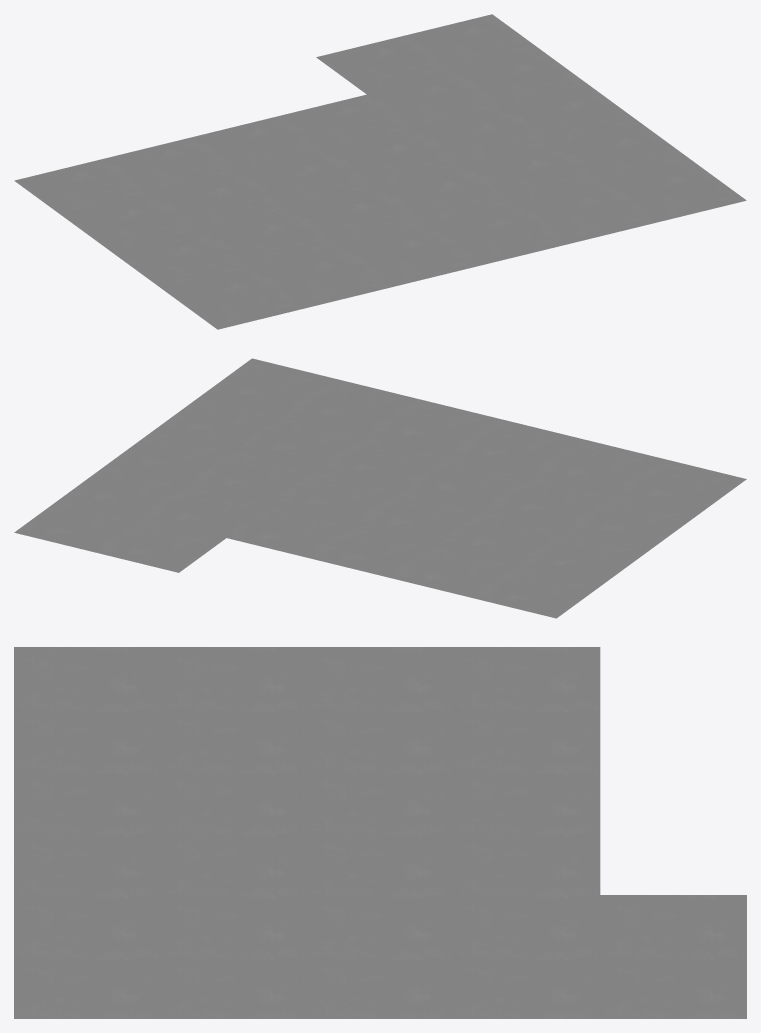
The model's file is Controll_room_floor.fbx.
The picture shows the model from 3 angles, top to bottom: view 1: azimuth 30°, elevation 25°; view 2: azimuth 150°, elevation 25°; view 3: azimuth 270°, elevation 25°; orthographic projection. The views are drawn at different scales.
Parts seen in each view (by area): view 1: Floor_1623, Floor_489, Floor_1617, Floor_1628, Floor_488, Floor_716, Floor_481, Floor_717, Floor_480, Floor_1618, Floor_1621, Floor_1625 (+14 smaller); view 2: Floor_485, Floor_482, Floor_486, Floor_481, Floor_717, Floor_1617, Floor_1619, Floor_1621, Floor_1627, Floor_1628, Floor_487, Floor_488 (+14 smaller); view 3: Floor_487, Floor_482, Floor_488, Floor_716, Floor_489, Floor_718, Floor_483, Floor_481, Floor_1622, Floor_1623, Floor_1626, Floor_1627 (+14 smaller).
Part boxes in pixels (<box>): Floor_1623: <box>102,137,240,196</box>; Floor_489: <box>381,169,519,227</box>; Floor_1617: <box>608,163,746,221</box>; Floor_1628: <box>167,271,305,329</box>; Floor_488: <box>557,126,695,184</box>; Floor_716: <box>469,147,607,206</box>; Floor_481: <box>455,51,593,110</box>; Floor_717: <box>418,110,556,168</box>; Floor_480: <box>404,14,542,72</box>; Floor_1618: <box>343,228,481,286</box>; Floor_1621: <box>153,175,291,233</box>; Floor_1625: <box>65,196,203,254</box>; Floor_485: <box>109,428,238,482</box>; Floor_482: <box>309,523,438,578</box>; Floor_486: <box>357,488,486,543</box>; Floor_481: <box>62,463,191,517</box>; Floor_717: <box>192,448,321,502</box>; Floor_1617: <box>205,358,334,413</box>; Floor_1619: <box>369,398,498,453</box>; Floor_1621: <box>439,508,568,563</box>; Floor_1627: <box>474,563,603,618</box>; Floor_1628: <box>617,459,746,513</box>; Floor_487: <box>404,453,533,508</box>; Floor_488: <box>157,393,286,447</box>; Floor_487: <box>160,771,307,832</box>; Floor_482: <box>453,771,600,832</box>; Floor_488: <box>160,957,307,1018</box>; Floor_716: <box>160,895,307,956</box>; Floor_489: <box>160,833,307,894</box>; Floor_718: <box>453,895,600,956</box>; Floor_483: <box>453,833,600,894</box>; Floor_481: <box>453,957,600,1018</box>; Floor_1622: <box>160,709,307,770</box>; Floor_1623: <box>453,709,600,770</box>; Floor_1626: <box>160,647,307,708</box>; Floor_1627: <box>453,647,600,708</box>.
Bounding box in the file's own units: 18 × 0 × 15.
1 material, 1 textured.
